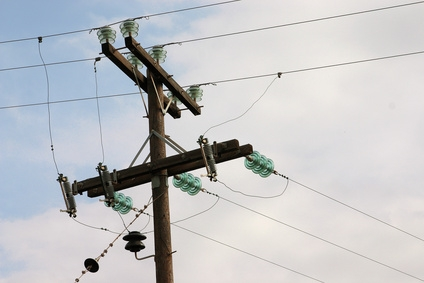isolator: (244, 151, 274, 178), (172, 172, 202, 196), (104, 192, 132, 215), (148, 46, 168, 64), (119, 20, 138, 38), (97, 27, 116, 44), (126, 52, 144, 69), (186, 85, 205, 101), (166, 90, 183, 106)
